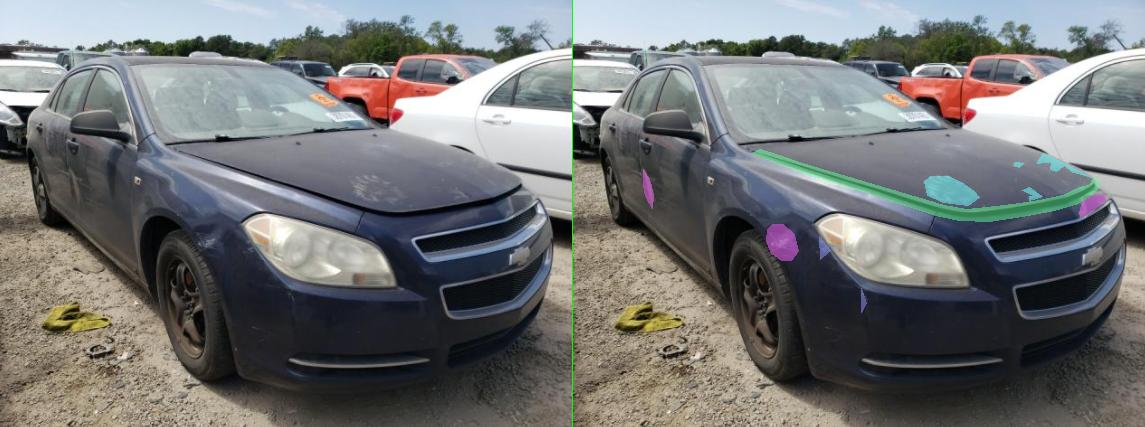Broken part: (356, 149, 1053, 221)
Dent: (386, 224, 450, 260), (1013, 195, 1067, 217), (140, 169, 160, 208)
Flaking: (703, 176, 813, 205), (929, 153, 1043, 178), (899, 187, 939, 200), (881, 162, 901, 167)
Scratch: (492, 236, 514, 259), (577, 288, 587, 312)
